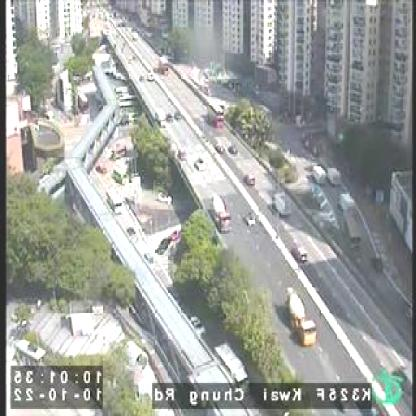Bus: (207, 97, 224, 129)
Car: (319, 208, 336, 235), (309, 184, 326, 206), (310, 162, 326, 184), (291, 242, 307, 262), (244, 174, 256, 187), (246, 211, 255, 226), (194, 157, 204, 170), (227, 144, 235, 154), (146, 71, 154, 81)
Truck: (280, 288, 316, 345), (338, 193, 358, 244), (209, 194, 230, 230), (272, 191, 290, 216), (103, 187, 120, 213)
